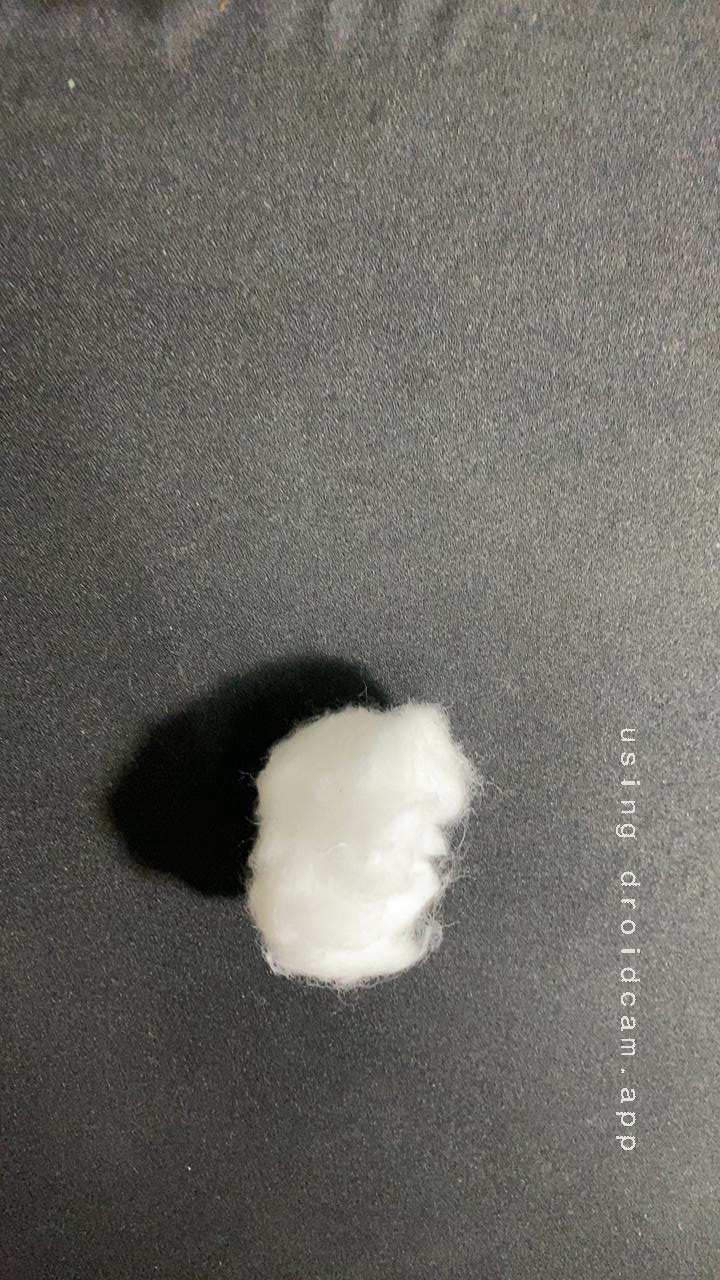cotton: (223, 685, 515, 1011)
